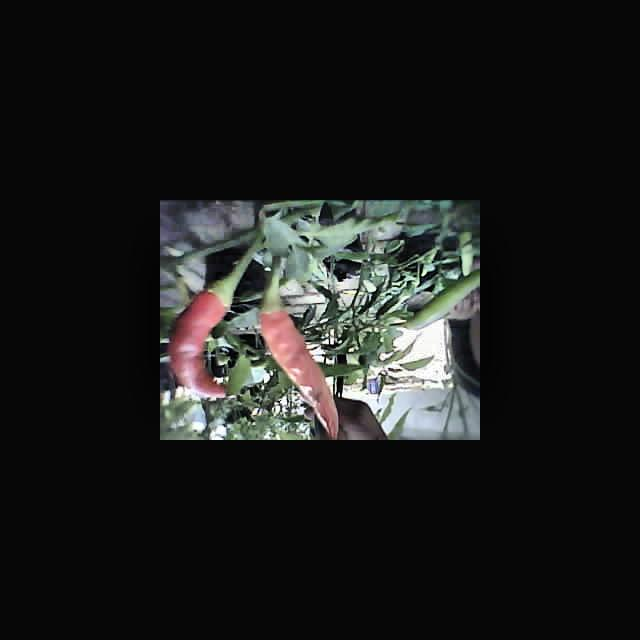Cabai: (258, 295, 350, 433), (168, 282, 241, 408)
